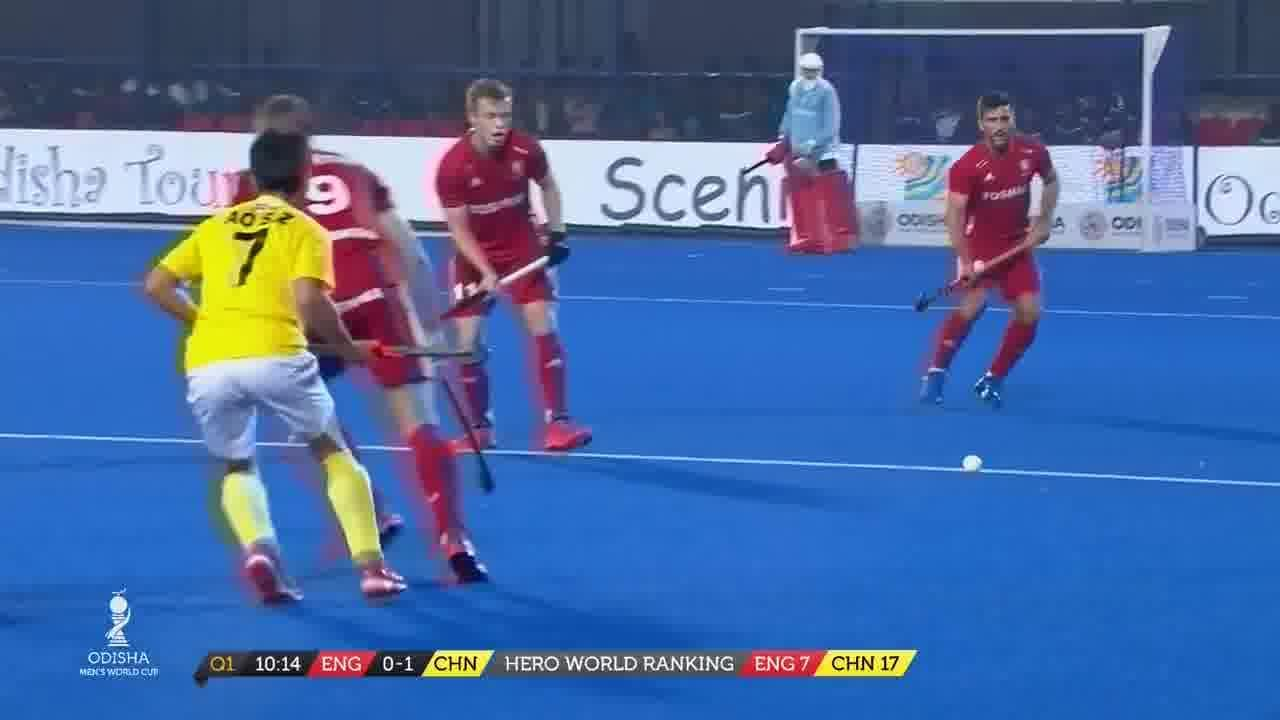ball: (957, 447, 992, 474)
